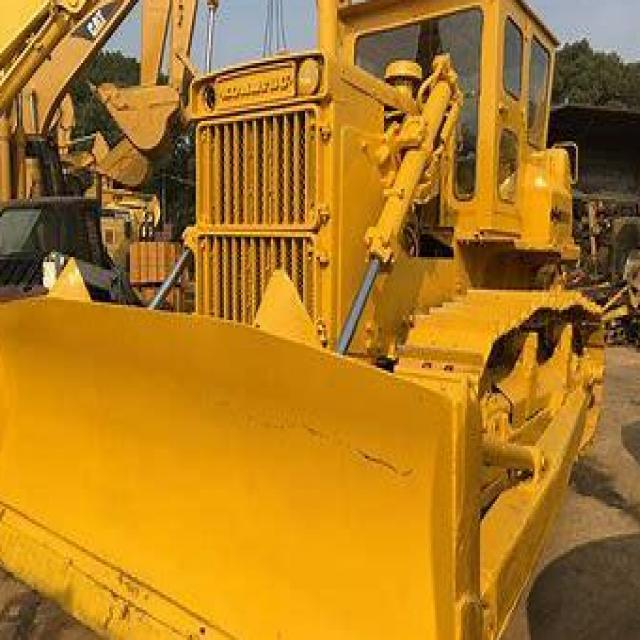Bulldozer: (8, 0, 628, 640)
